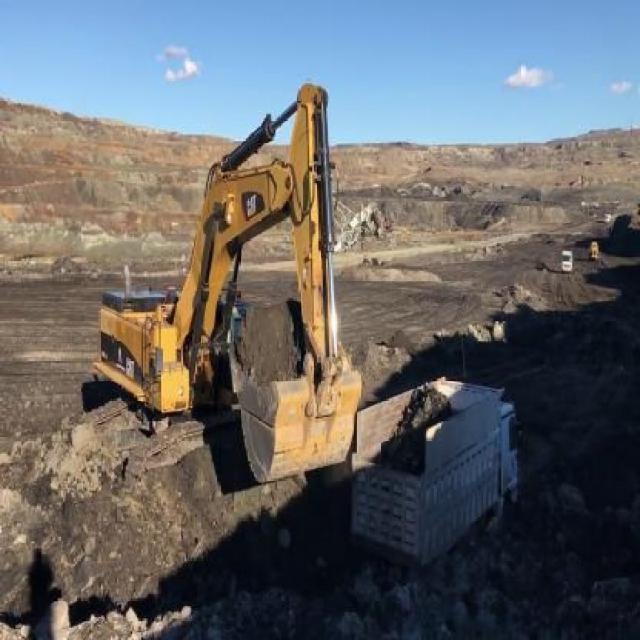Dump Truck: (344, 371, 522, 583)
Excavator: (86, 73, 362, 485)
